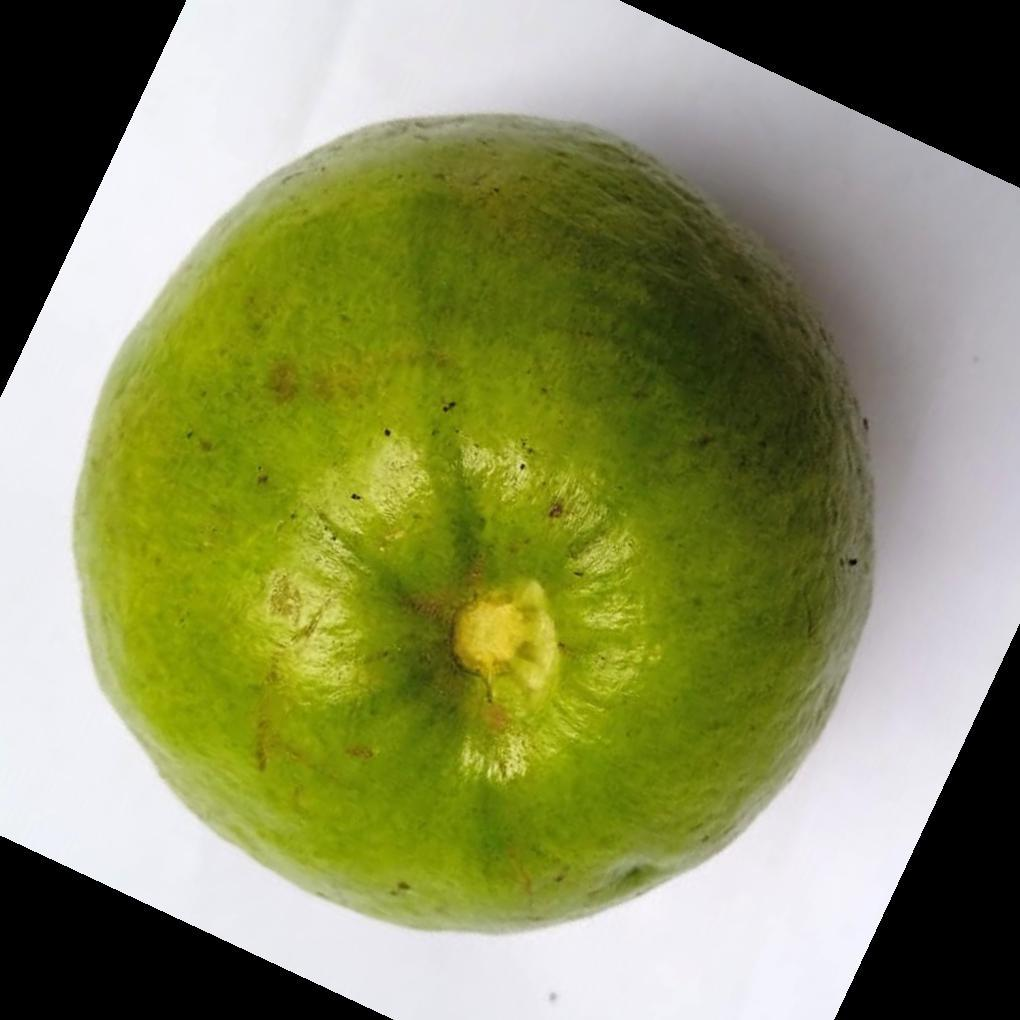FreshGuava: (68, 113, 877, 940)
